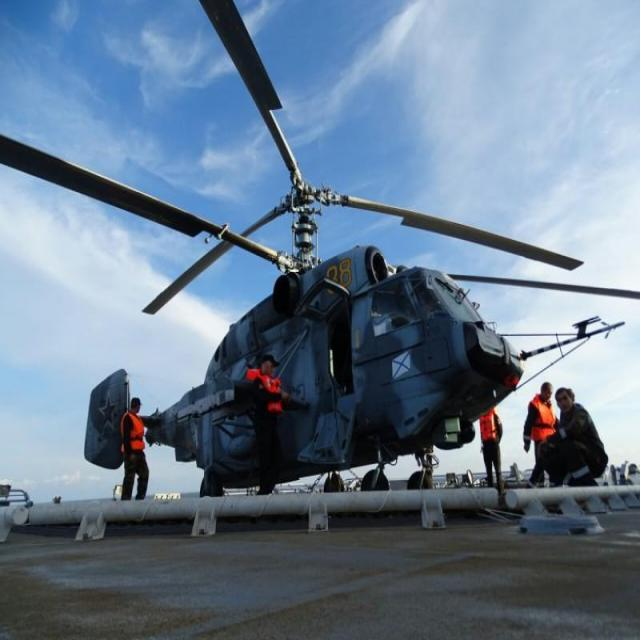MIL_HELO: (0, 0, 588, 505)
